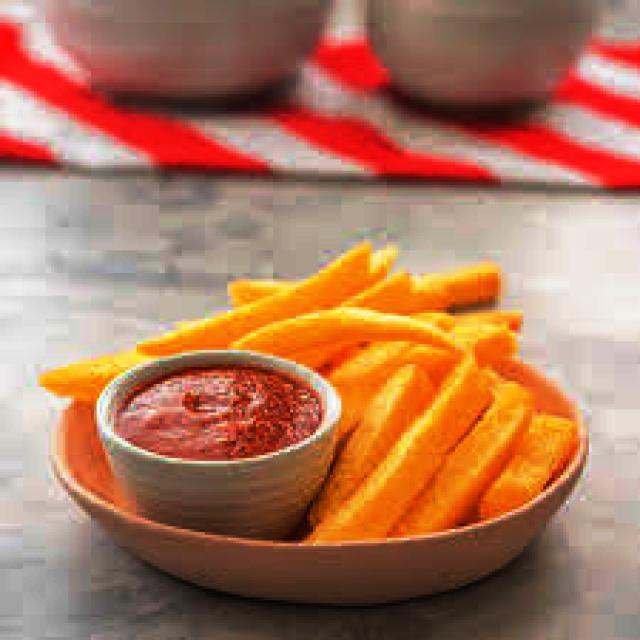french fries: (328, 359, 577, 541), (134, 245, 518, 354)
ketchup: (111, 361, 324, 464)
